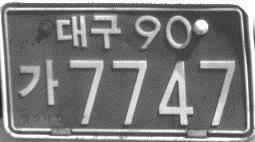0: (165, 14, 193, 50)
4: (156, 58, 195, 126)
7: (198, 57, 238, 128), (110, 57, 149, 127), (67, 57, 105, 127)
9: (132, 13, 161, 50)
가: (17, 57, 60, 108)
대구_O: (55, 12, 122, 51)
